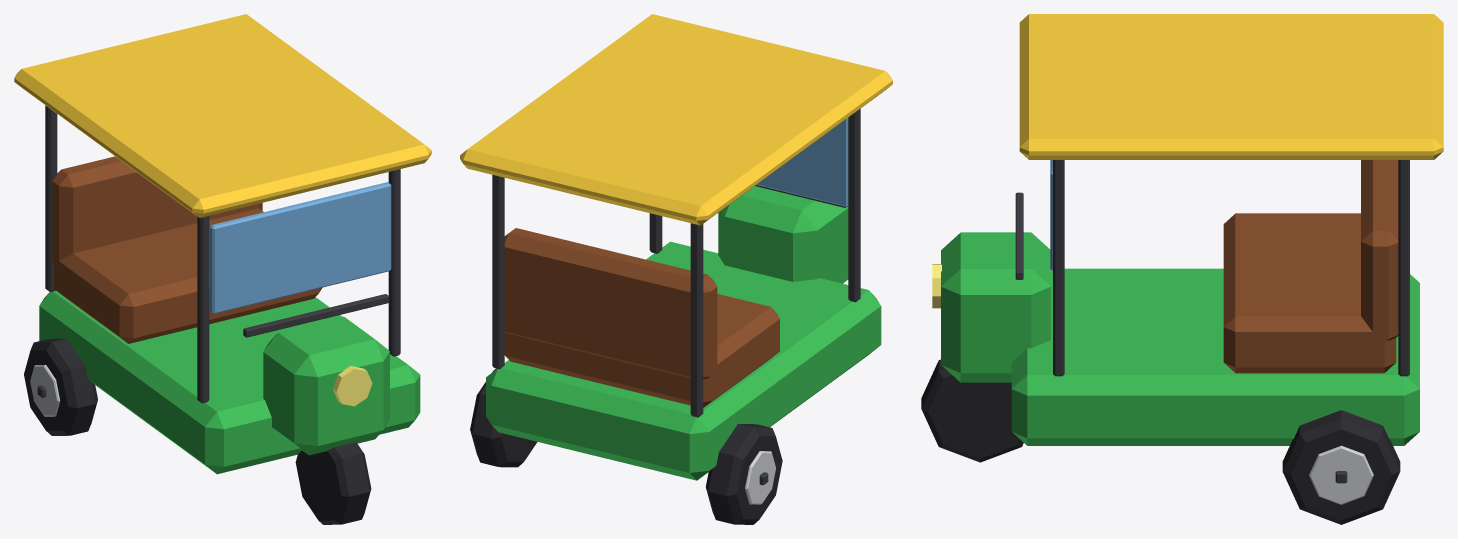
Rendered from TukTuk.fbx.
3 renders of one model, left to right at view 1: azimuth 30°, elevation 25°; view 2: azimuth 150°, elevation 25°; view 3: azimuth 270°, elevation 25°, orthographic. The views are drawn at different scales.
Visible parts, largest first — view 1: TukTuk, TukTuk_WheelBR, TukTuk_WheelF; view 2: TukTuk, TukTuk_WheelBR, TukTuk_WheelBL; view 3: TukTuk, TukTuk_WheelBL, TukTuk_WheelF.
Part boxes in pixels (x1,y1,x2,y2): TukTuk: (14, 14, 431, 474); TukTuk_WheelBR: (24, 338, 97, 435); TukTuk_WheelF: (295, 442, 371, 524); TukTuk: (460, 14, 892, 480); TukTuk_WheelBR: (706, 424, 782, 524); TukTuk_WheelBL: (470, 368, 537, 467); TukTuk: (932, 14, 1443, 445); TukTuk_WheelBL: (1282, 410, 1400, 524); TukTuk_WheelF: (921, 359, 1023, 462).
Size of the model in its own units: 4.52 by 5.35 by 6.65.
Materials: 1 (1 with a texture image).
